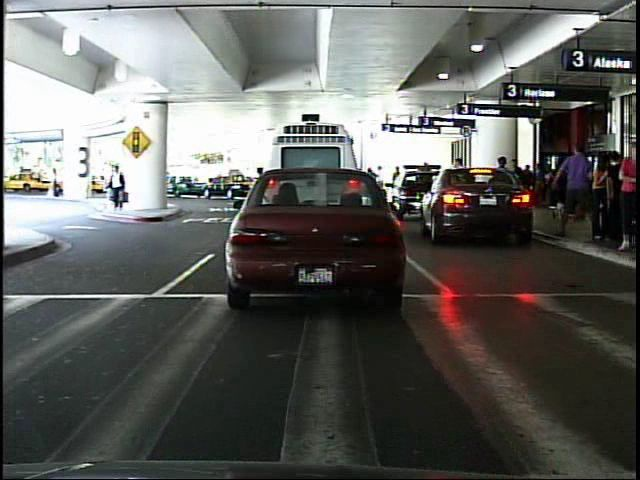person: (613, 140, 638, 255), (100, 157, 133, 213), (52, 164, 67, 203)
